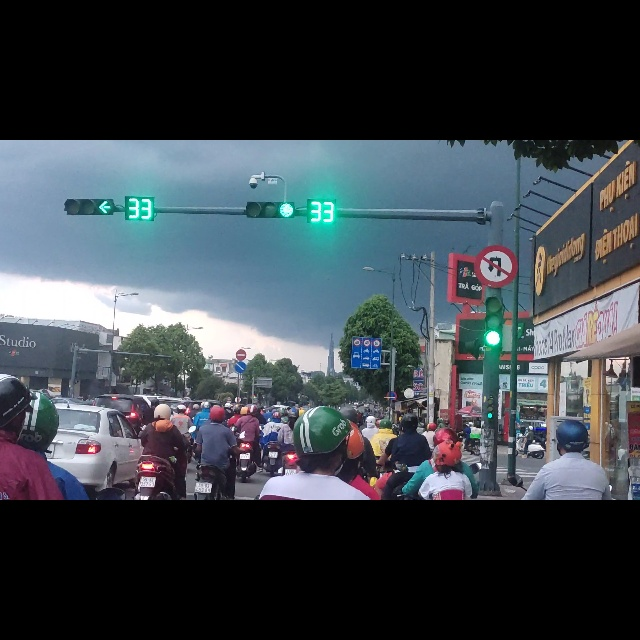bien_hieu_lenh: (475, 183, 517, 264), (349, 348, 381, 408), (234, 371, 246, 393), (234, 393, 246, 414)
